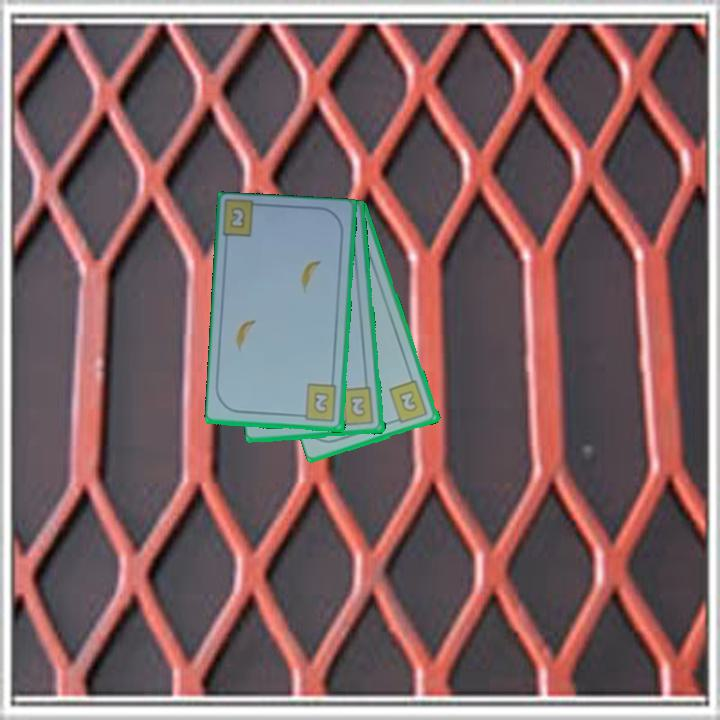2b: (386, 377, 431, 426), (296, 381, 340, 424), (335, 384, 377, 429), (226, 203, 248, 232)
